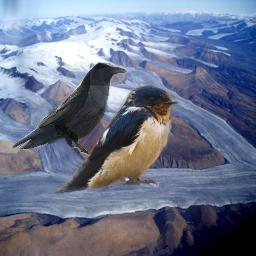Crow: (11, 62, 127, 158)
Swallow: (54, 84, 180, 196)
